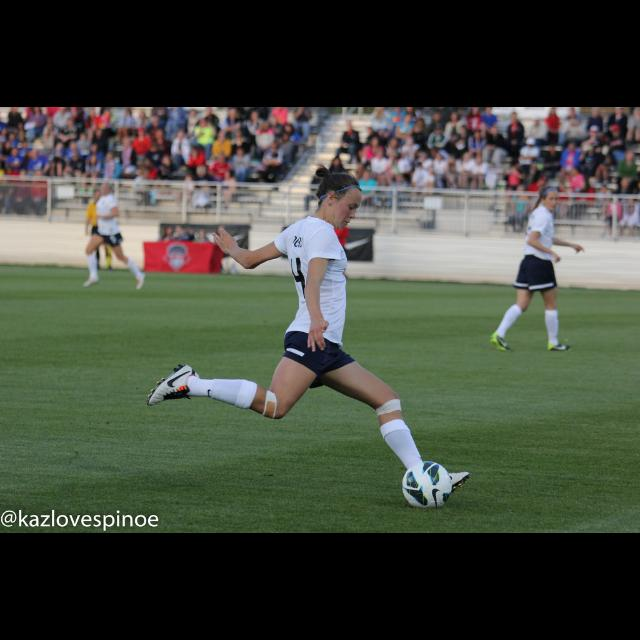Football: (398, 457, 454, 505)
